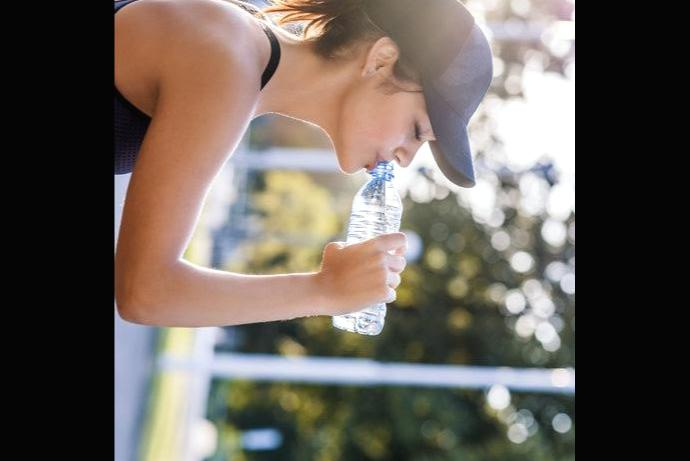bottle: (320, 141, 408, 344)
